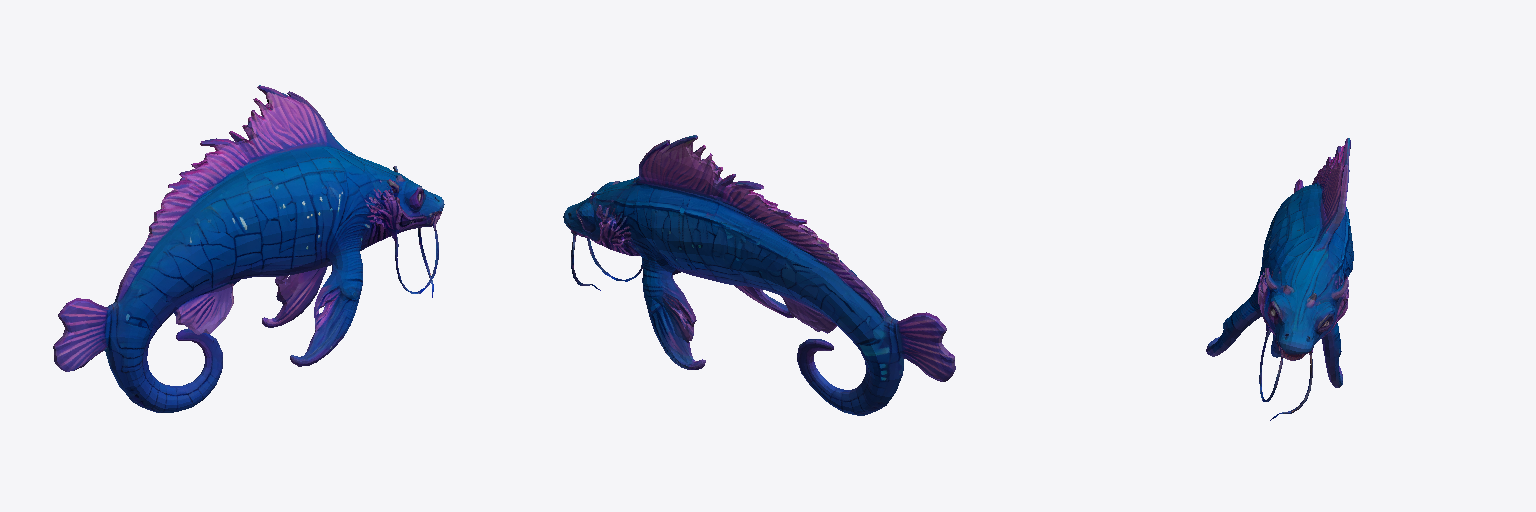
The picture shows the model from 3 angles: view 1: azimuth 30°, elevation 25°; view 2: azimuth 150°, elevation 25°; view 3: azimuth 270°, elevation 25°; orthographic projection.
Visible parts, largest first — view 1: tripo_node_aec6e9d3-eed0-4956-bf55-f1104d7b953d; view 2: tripo_node_aec6e9d3-eed0-4956-bf55-f1104d7b953d; view 3: tripo_node_aec6e9d3-eed0-4956-bf55-f1104d7b953d.
Boxes of the visible parts, box(x1,y1,x2,y2) form: tripo_node_aec6e9d3-eed0-4956-bf55-f1104d7b953d: box(53, 85, 444, 412); tripo_node_aec6e9d3-eed0-4956-bf55-f1104d7b953d: box(563, 135, 955, 415); tripo_node_aec6e9d3-eed0-4956-bf55-f1104d7b953d: box(1206, 138, 1353, 420).
Bounding box in the file's own units: 0.983 × 0.6576 × 0.3231.
1 materials, 1 textured.